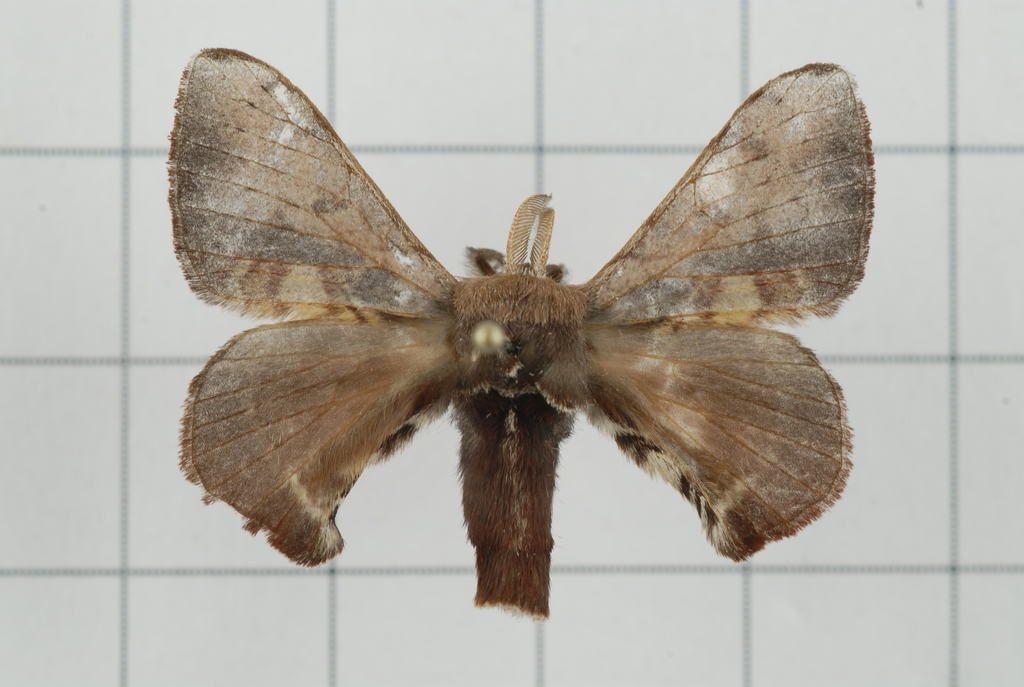Butterfly: (157, 27, 893, 623)
